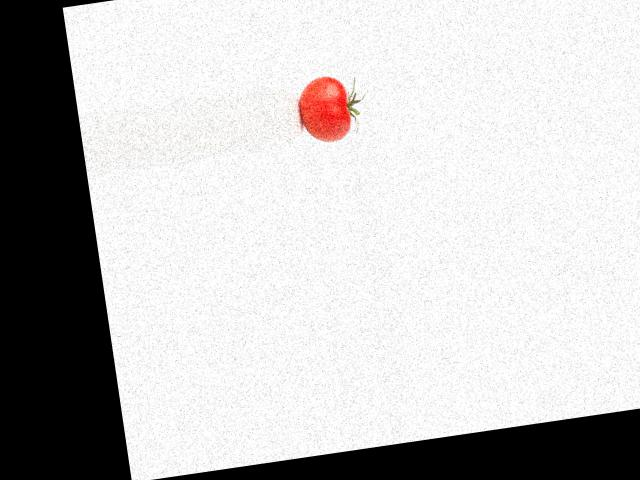tomato: (296, 73, 353, 144)
